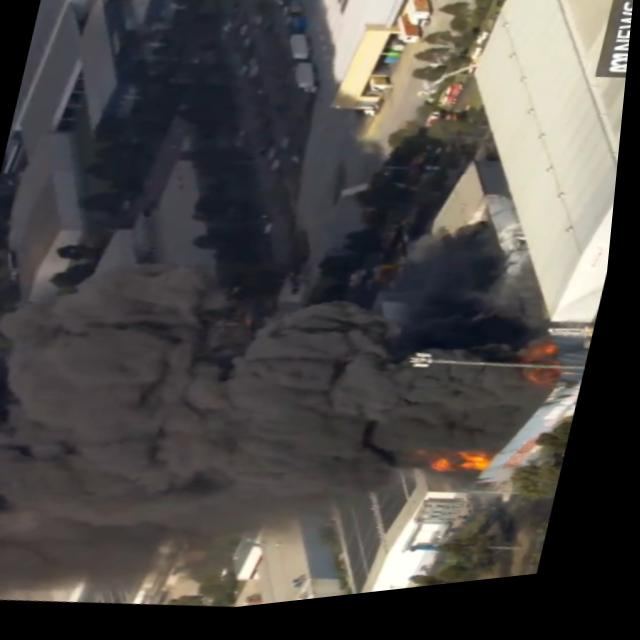Fire: (433, 452, 505, 493)
